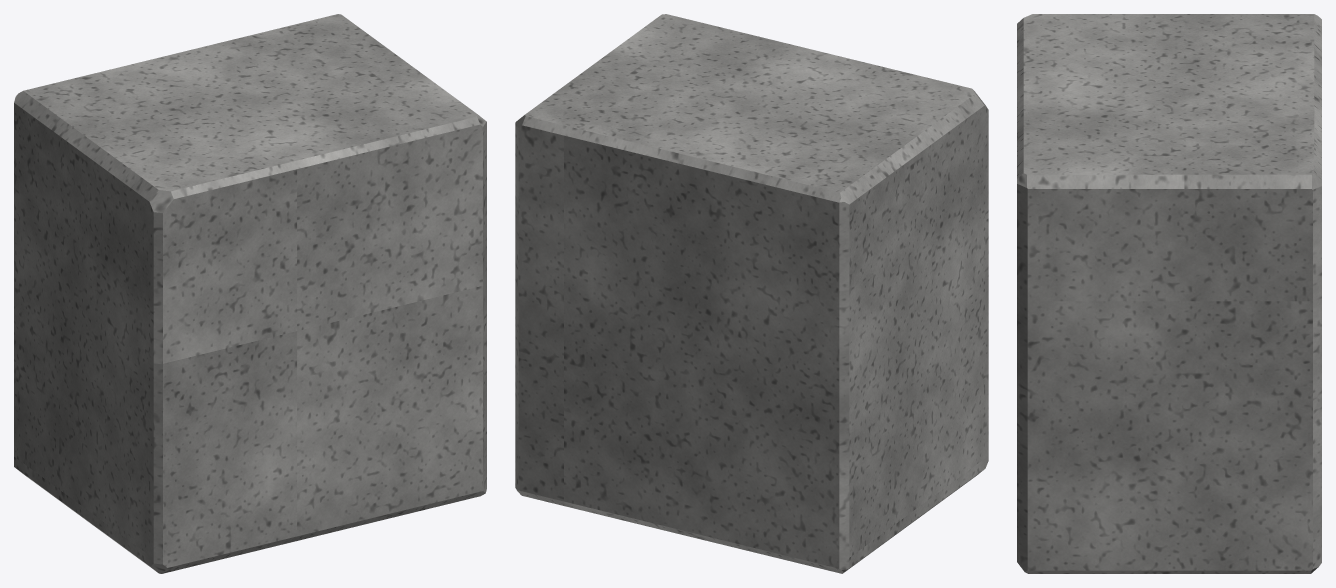
The model's file is limestone-block-04.glb.
3 views of the same model, side by side, from view 1: azimuth 30°, elevation 25°; view 2: azimuth 150°, elevation 25°; view 3: azimuth 270°, elevation 25° (orthographic). The views are drawn at different scales.
Visible parts, largest first — view 1: limestone-block-04; view 2: limestone-block-04; view 3: limestone-block-04.
Part boxes in pixels (left/top/right/bottom): limestone-block-04: left=14, top=14, right=486, bottom=573; limestone-block-04: left=515, top=14, right=988, bottom=573; limestone-block-04: left=1017, top=14, right=1321, bottom=573.
Size of the model in its own units: 0.28 by 0.3058 by 0.2123.
1 material, 1 textured.
